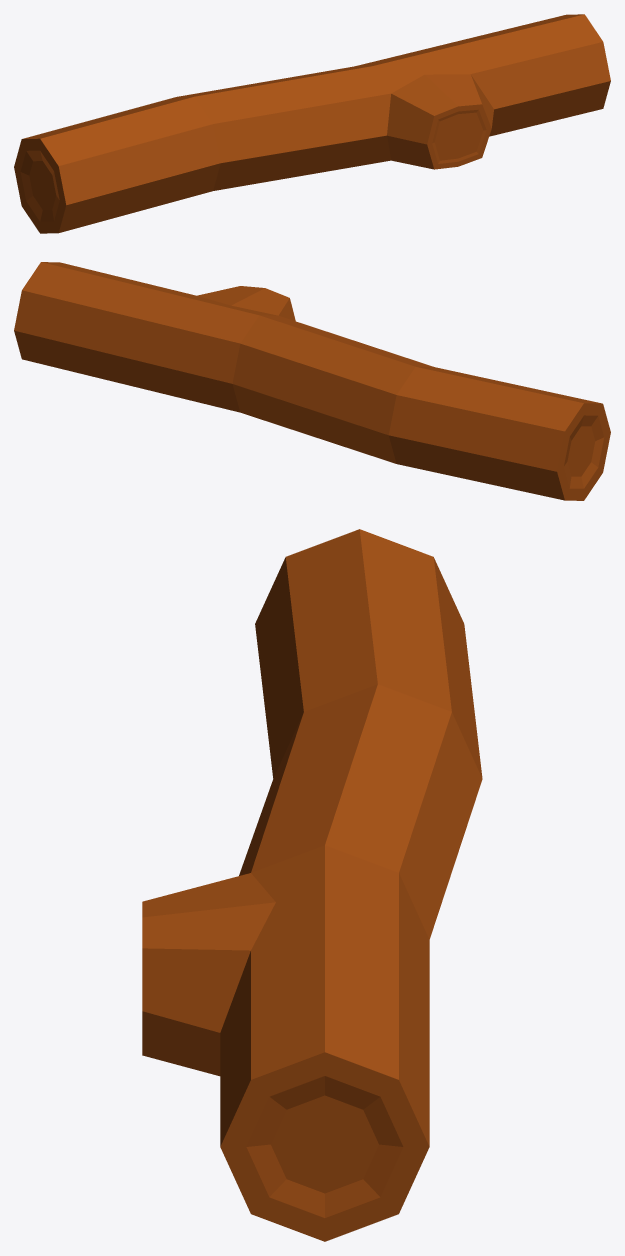
Rendered from WoodLog_04.fbx.
3 renders of one model, top to bottom at view 1: azimuth 30°, elevation 25°; view 2: azimuth 150°, elevation 25°; view 3: azimuth 270°, elevation 25°, orthographic. The views are drawn at different scales.
Visible parts, largest first — view 1: WoodLog_04; view 2: WoodLog_04; view 3: WoodLog_04.
Part boxes in pixels (x1,y1,x2,y2): WoodLog_04: [14, 14, 610, 233]; WoodLog_04: [14, 262, 610, 500]; WoodLog_04: [142, 529, 482, 1241].
Bounding box in the file's own units: 48.55 × 8.21 × 13.34.
